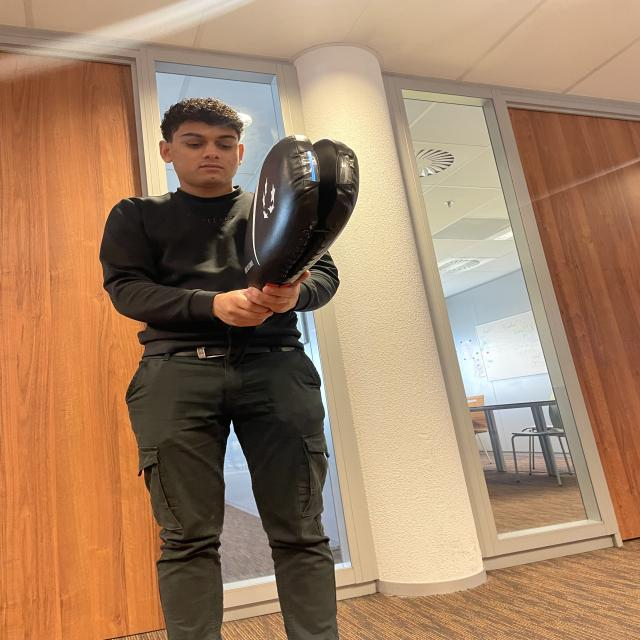paddle: (252, 133, 359, 278)
trigger: (302, 147, 318, 183)
